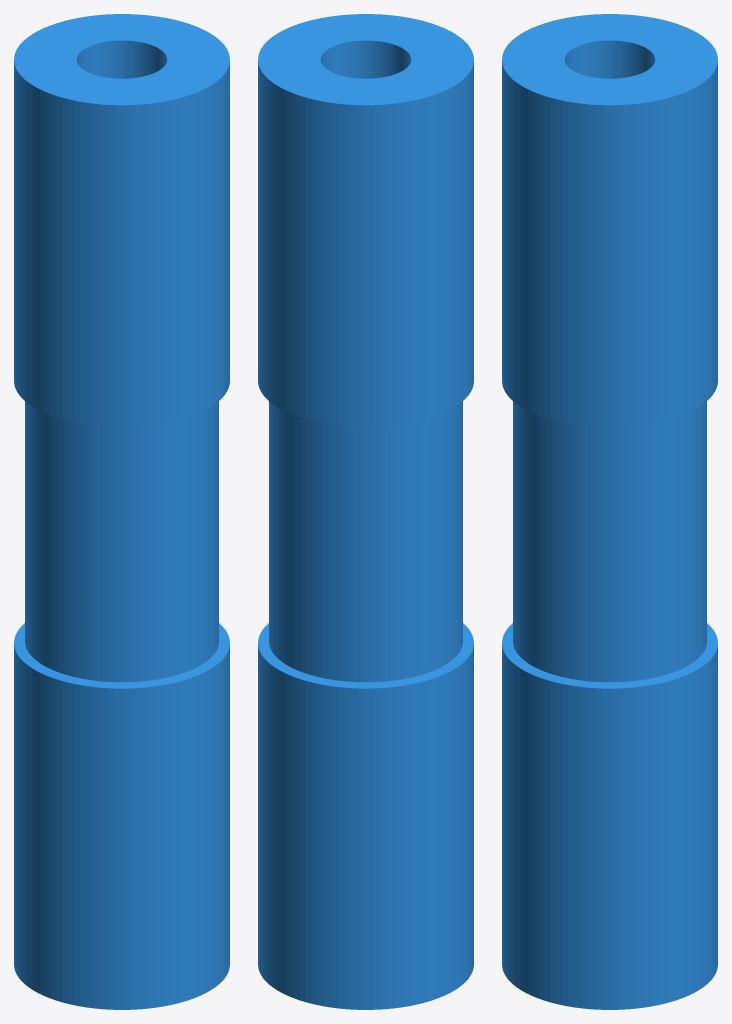
Rendered from rsct.fbx.
The picture shows the model from 3 angles, left to right: view 1: azimuth 30°, elevation 25°; view 2: azimuth 150°, elevation 25°; view 3: azimuth 270°, elevation 25°; orthographic projection.
Parts seen in each view (by area): view 1: /tmp/importOpenSceneGraph7a30f/RSCT.wrl_Group_MatrixTransfor (×2), /tmp/importOpenSceneGraph7a30f/RSCT.wrl_Group__Geometry_0; view 2: /tmp/importOpenSceneGraph7a30f/RSCT.wrl_Group_MatrixTransfor (×2), /tmp/importOpenSceneGraph7a30f/RSCT.wrl_Group__Geometry_0; view 3: /tmp/importOpenSceneGraph7a30f/RSCT.wrl_Group_MatrixTransfor (×2), /tmp/importOpenSceneGraph7a30f/RSCT.wrl_Group__Geometry_0.
Part boxes in pixels (box(x1,y1,x2,y2)): /tmp/importOpenSceneGraph7a30f/RSCT.wrl_Group_MatrixTransfor (×2): box(14, 14, 229, 1009); /tmp/importOpenSceneGraph7a30f/RSCT.wrl_Group__Geometry_0: box(25, 401, 218, 682); /tmp/importOpenSceneGraph7a30f/RSCT.wrl_Group_MatrixTransfor (×2): box(258, 14, 473, 1009); /tmp/importOpenSceneGraph7a30f/RSCT.wrl_Group__Geometry_0: box(269, 401, 462, 682); /tmp/importOpenSceneGraph7a30f/RSCT.wrl_Group_MatrixTransfor (×2): box(502, 14, 717, 1009); /tmp/importOpenSceneGraph7a30f/RSCT.wrl_Group__Geometry_0: box(513, 401, 706, 682).
Size of the model in its own units: 1218 by 5630 by 1218.
